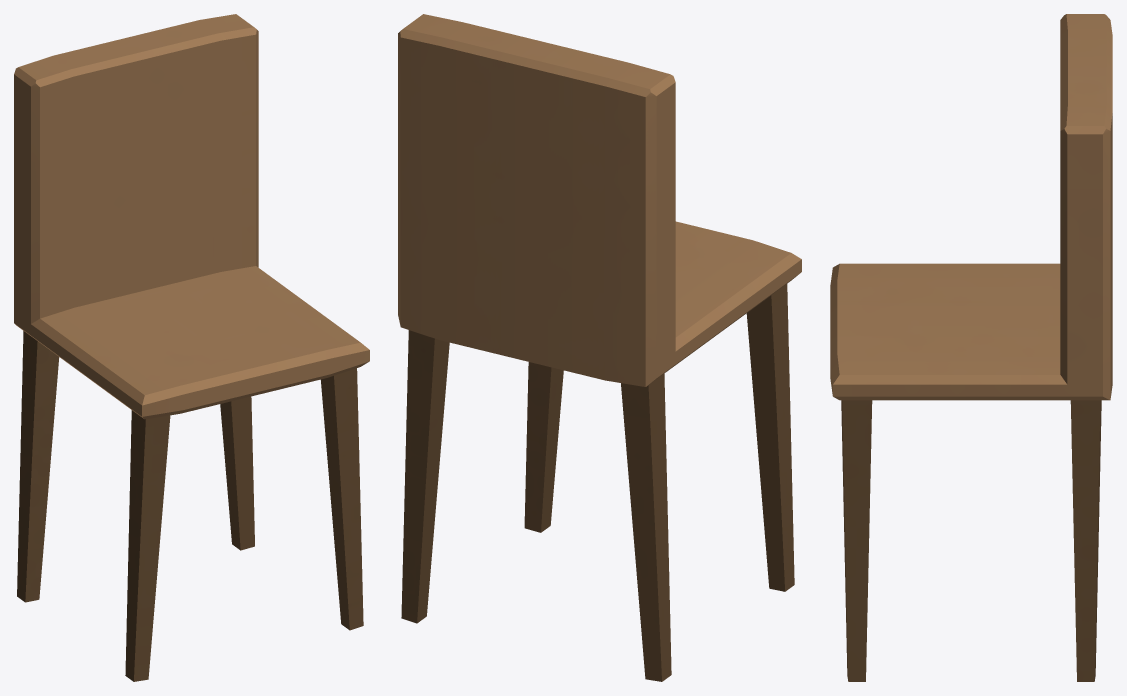
File: Chair_02_03.fbx
3 renders of one model, left to right at view 1: azimuth 30°, elevation 25°; view 2: azimuth 150°, elevation 25°; view 3: azimuth 270°, elevation 25°, orthographic. The views are drawn at different scales.
Parts seen in each view (by area): view 1: Chair_02_03; view 2: Chair_02_03; view 3: Chair_02_03.
Boxes of the visible parts, <box> form: Chair_02_03: <box>14,14,369,681</box>; Chair_02_03: <box>398,14,801,681</box>; Chair_02_03: <box>830,14,1112,681</box>.
Bounding box in the file's own units: 0.4836 × 1.06 × 0.4882.
